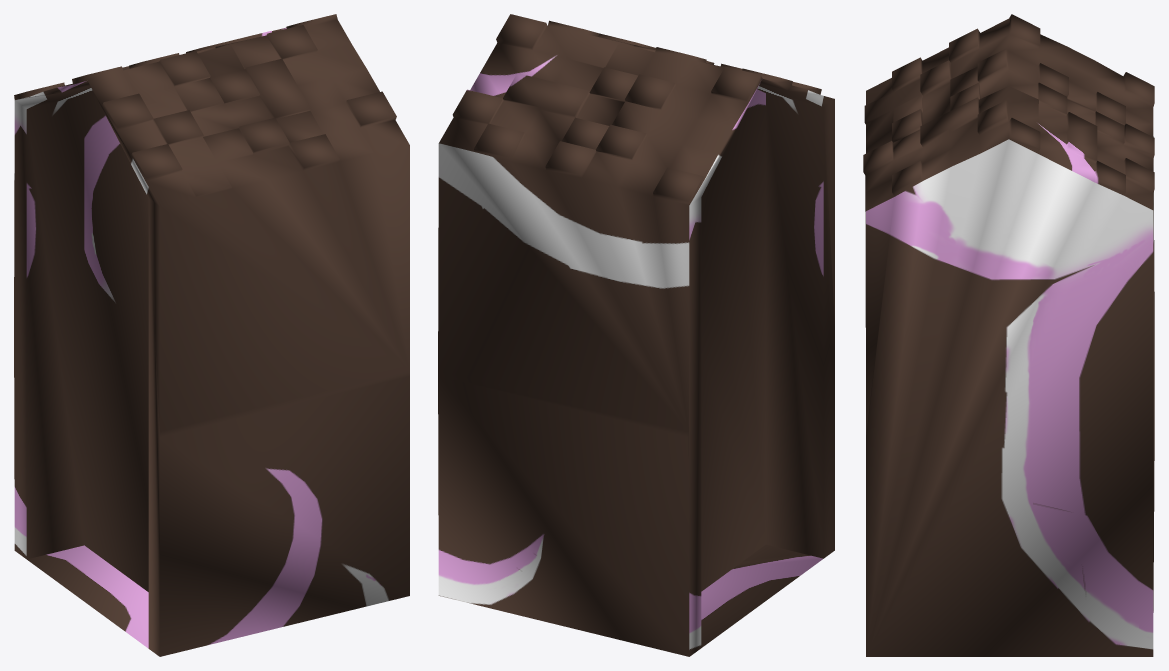
File: door.FBX
3 renders of one model, left to right at view 1: azimuth 30°, elevation 25°; view 2: azimuth 150°, elevation 25°; view 3: azimuth 270°, elevation 25°, orthographic.
Parts seen in each view (by area): view 1: Door; view 2: Door; view 3: Door.
Part boxes in pixels (bbox=[...]): Door: bbox=[14, 14, 409, 656]; Door: bbox=[438, 14, 834, 656]; Door: bbox=[863, 14, 1154, 656].
Bounding box in the file's own units: 100 × 202 × 102.
